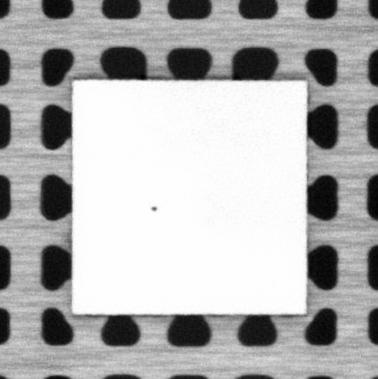DIE_INK: (148, 202, 160, 214)
